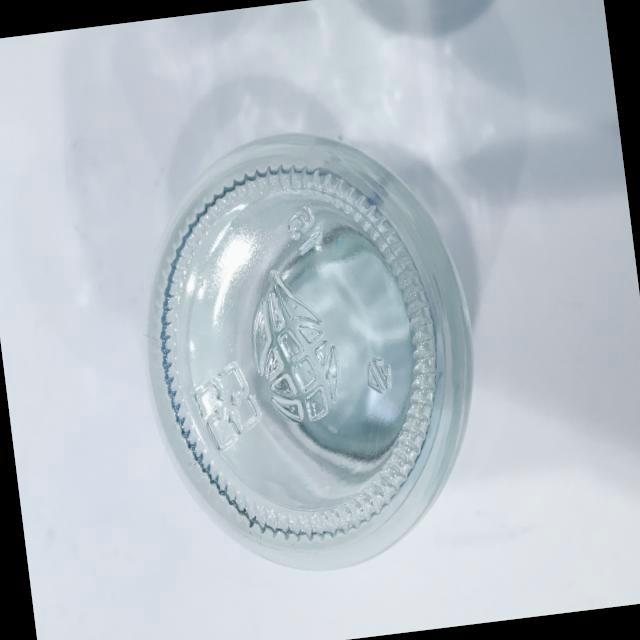glass: (101, 94, 508, 602)
